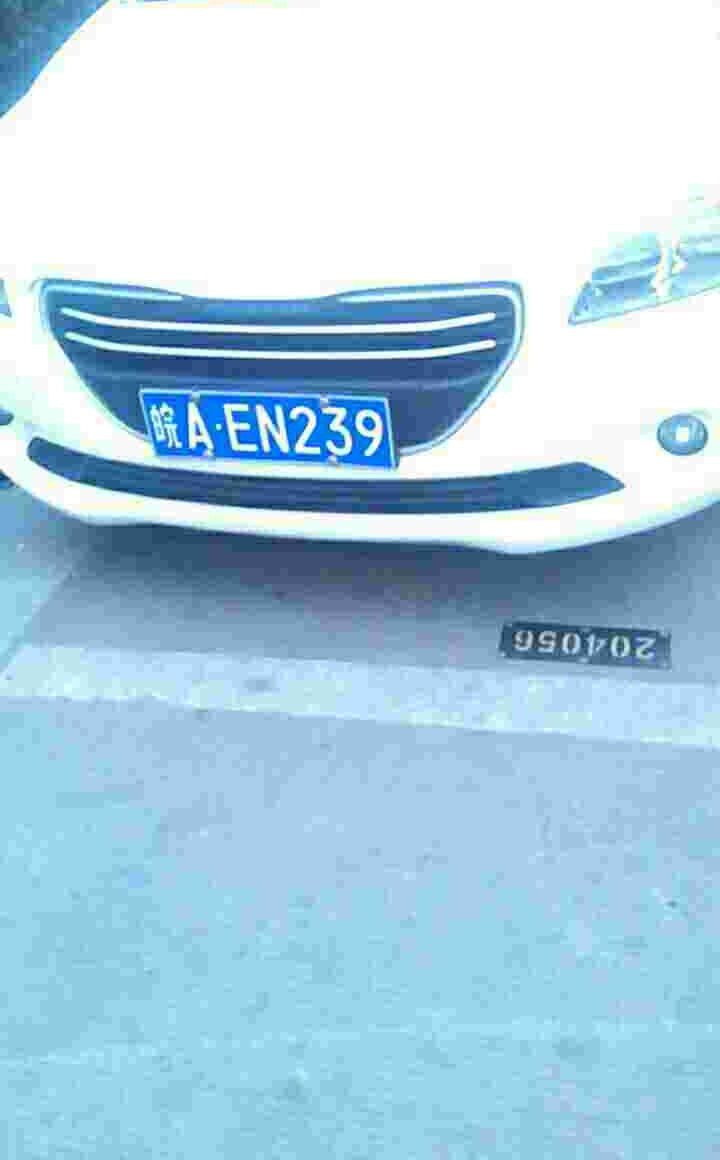plate: (138, 385, 404, 472)
